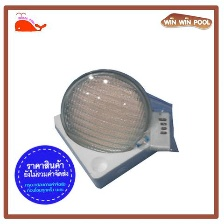light_bulb: (59, 64, 156, 163)
